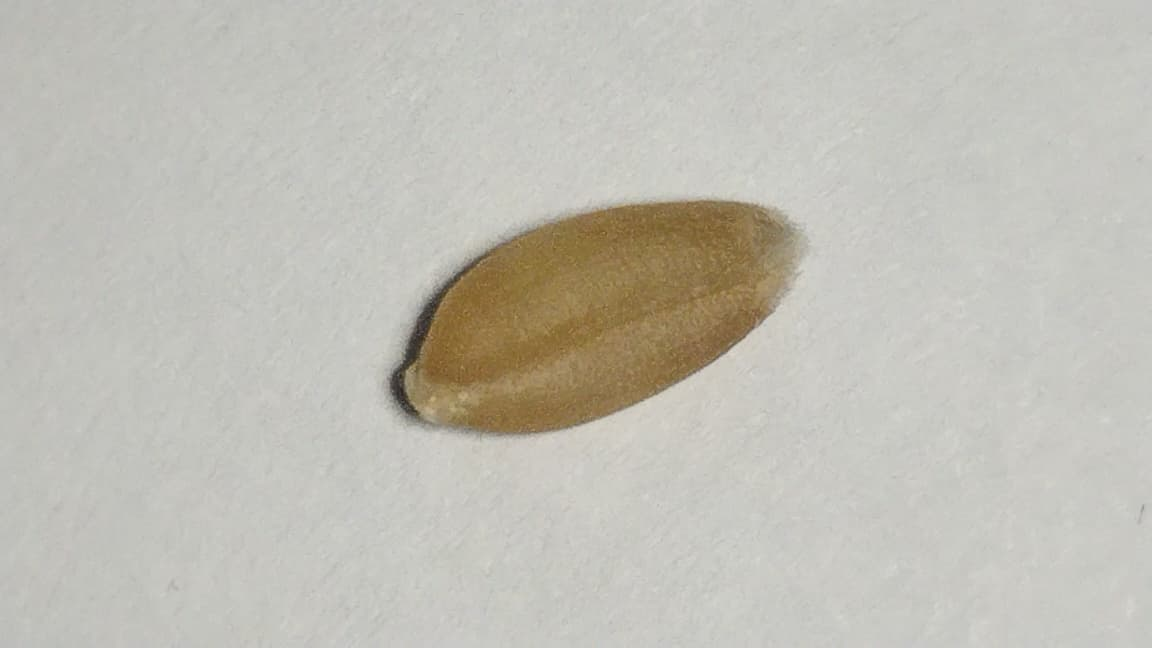healthy: (396, 199, 792, 432)
